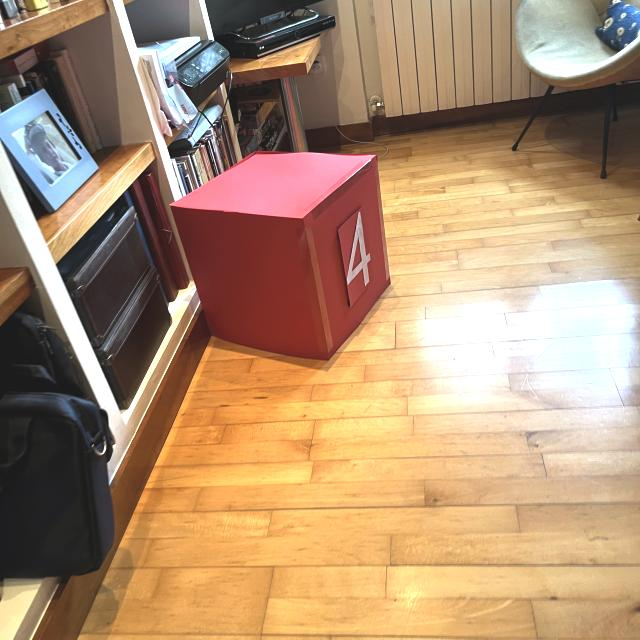box: (167, 146, 396, 362)
